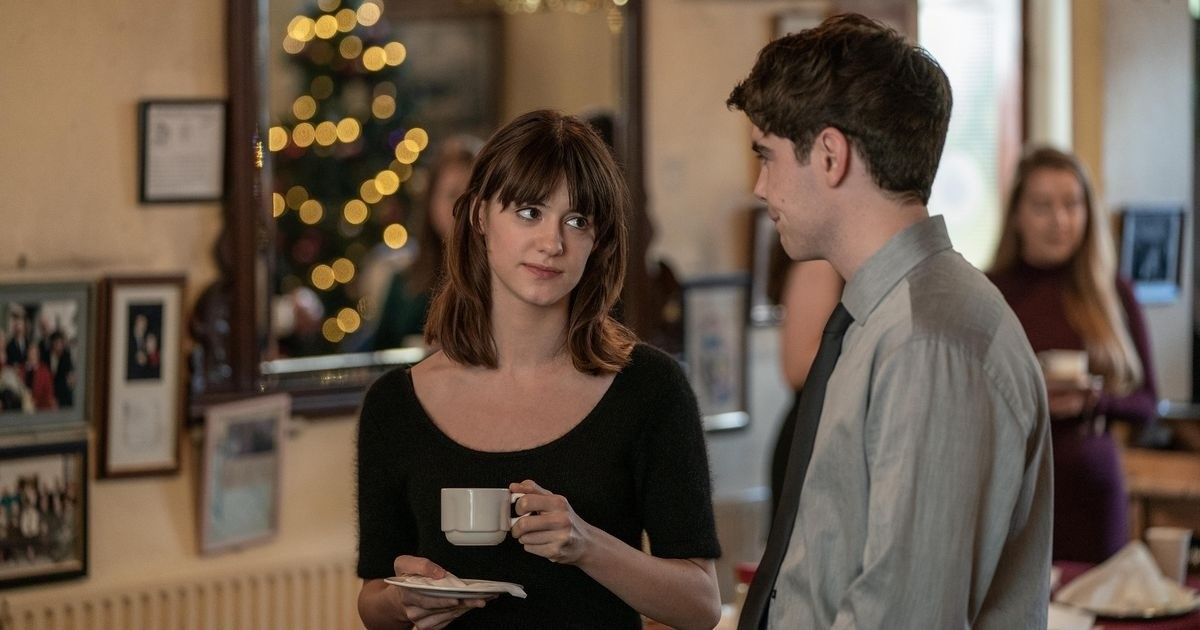face_no_mask: (751, 21, 948, 265), (465, 114, 607, 306)
